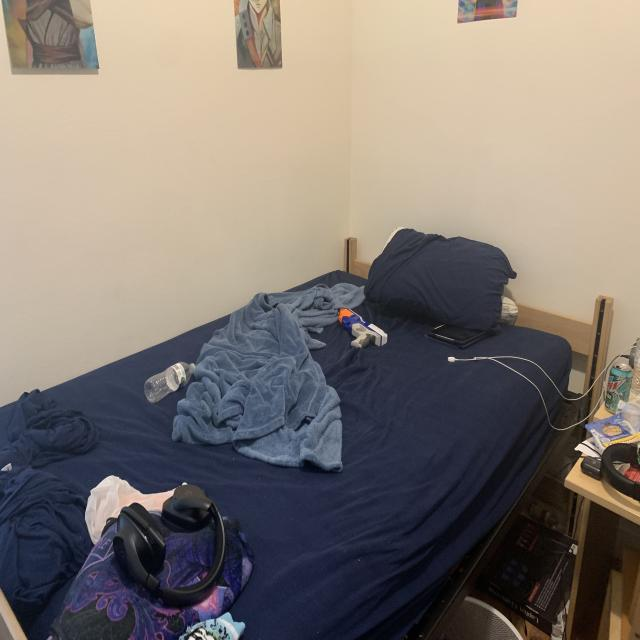nerf-maverik: (327, 293, 394, 362)
